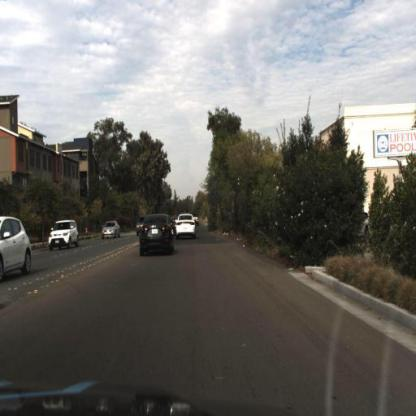car: (1, 210, 40, 283), (137, 202, 179, 261), (44, 212, 85, 256), (47, 217, 81, 255), (172, 206, 202, 249), (99, 219, 126, 245), (165, 218, 178, 242)
